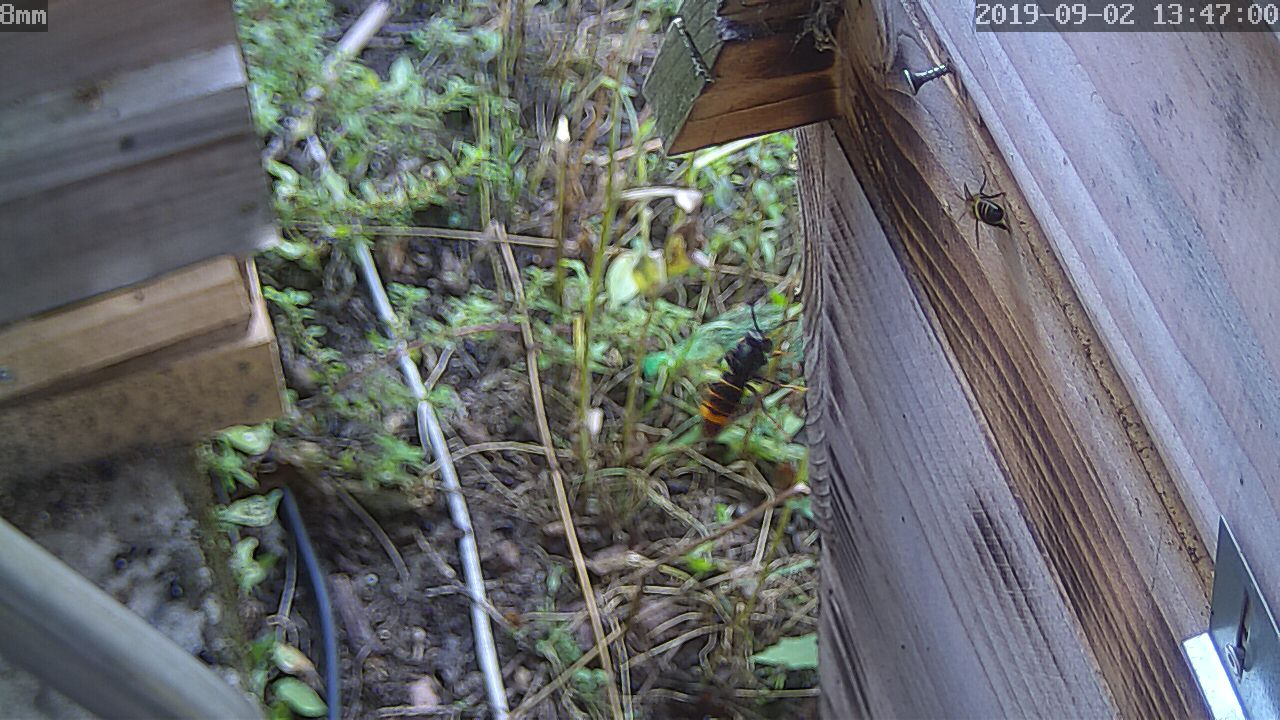bee: (969, 184, 1017, 235)
